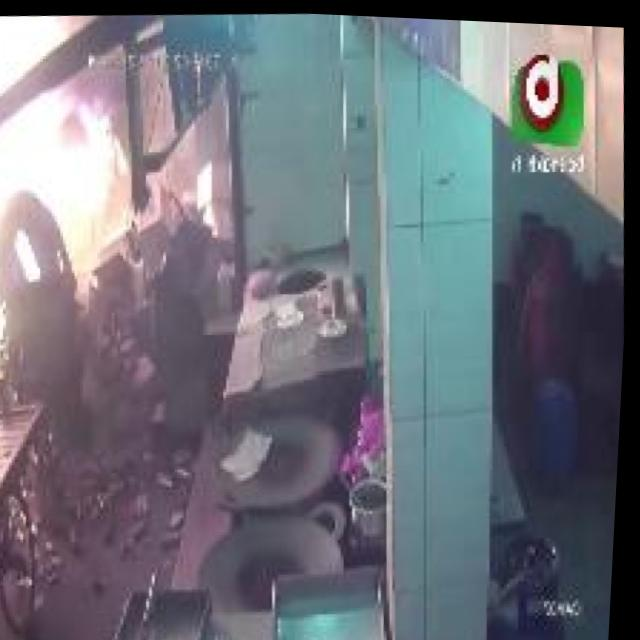fire: (0, 13, 128, 364)
